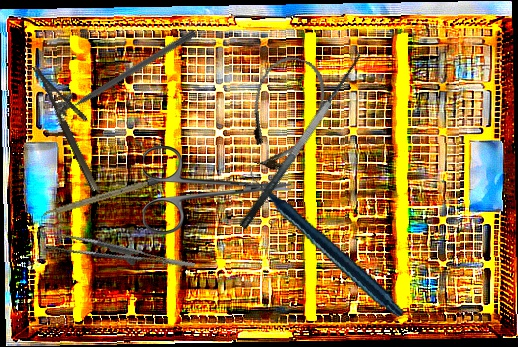Cannula: (233, 48, 336, 179)
Handpiece: (248, 140, 405, 340)
Iris Scissors: (143, 146, 291, 234)
Needle Holder: (32, 55, 116, 193)
Pusher: (54, 28, 197, 119)
Scalpel Handle: (39, 175, 162, 220)
Spatula Surgical: (223, 43, 371, 231)
Tissue Forceps: (44, 217, 196, 293)
